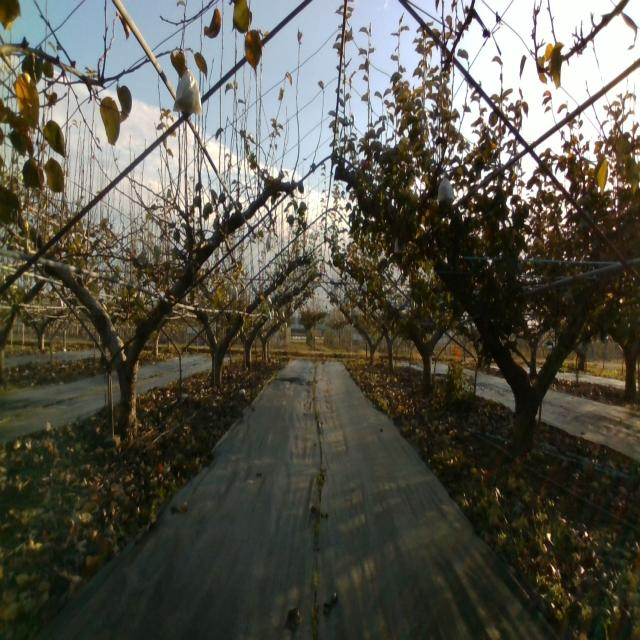pearbags: (172, 68, 202, 116), (437, 176, 455, 202)
